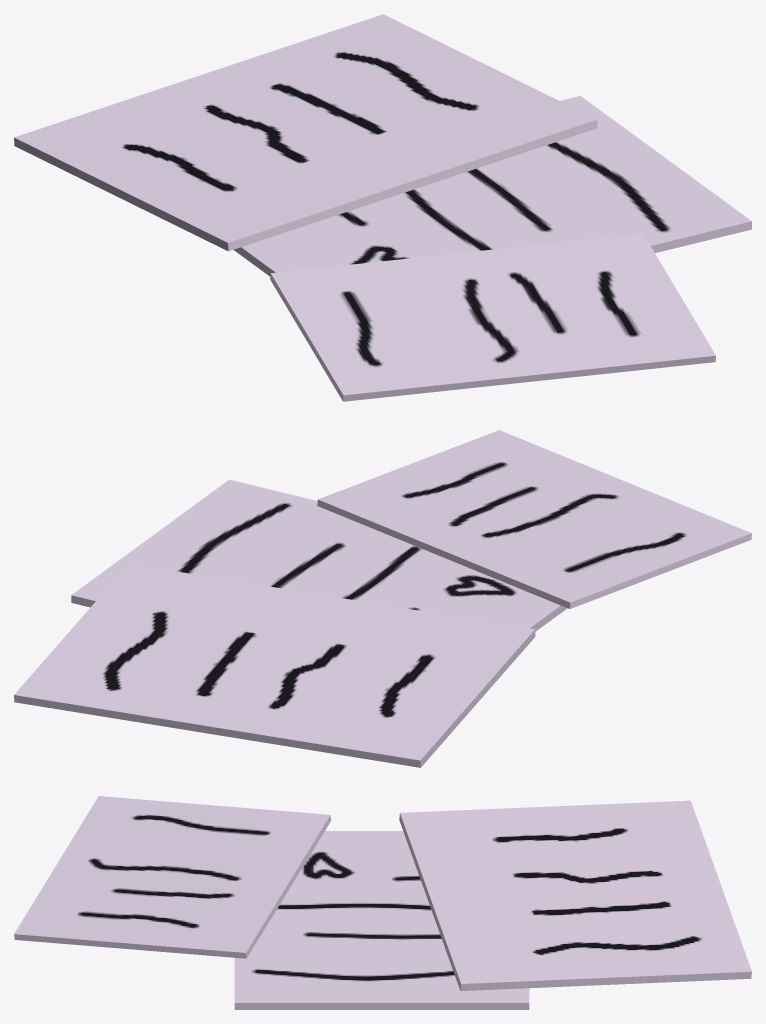
File: Papers.fbx
3 renders of one model, top to bottom at view 1: azimuth 30°, elevation 25°; view 2: azimuth 150°, elevation 25°; view 3: azimuth 270°, elevation 25°, orthographic. The views are drawn at different scales.
Parts seen in each view (by area): view 1: Documents; view 2: Documents; view 3: Documents.
Part boxes in pixels (box(x1,y1,x2,y2)): Documents: box(14, 14, 751, 401); Documents: box(14, 430, 751, 767); Documents: box(14, 796, 751, 1009).
Bounding box in the file's own units: 0.3197 × 0.0129 × 0.4877.
